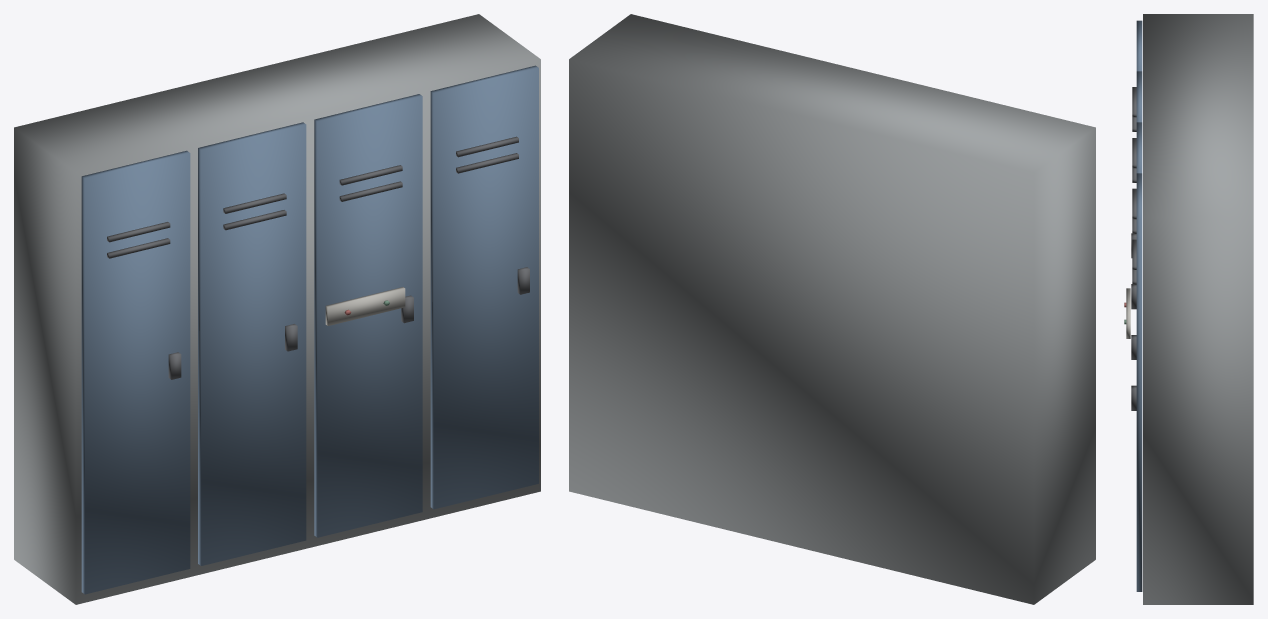
The model's file is school_locker_bank__wide.glb.
3 views of the same model, side by side, from view 1: azimuth 30°, elevation 25°; view 2: azimuth 150°, elevation 25°; view 3: azimuth 270°, elevation 25° (orthographic). The views are drawn at different scales.
Visible parts, largest first — view 1: world; view 2: world; view 3: world.
Part boxes in pixels (left/top/right/bottom): world: left=14, top=14, right=540, bottom=604; world: left=569, top=14, right=1095, bottom=604; world: left=1124, top=14, right=1253, bottom=604.
Bounding box in the file's own units: 2.08 × 1.85 × 0.561.
